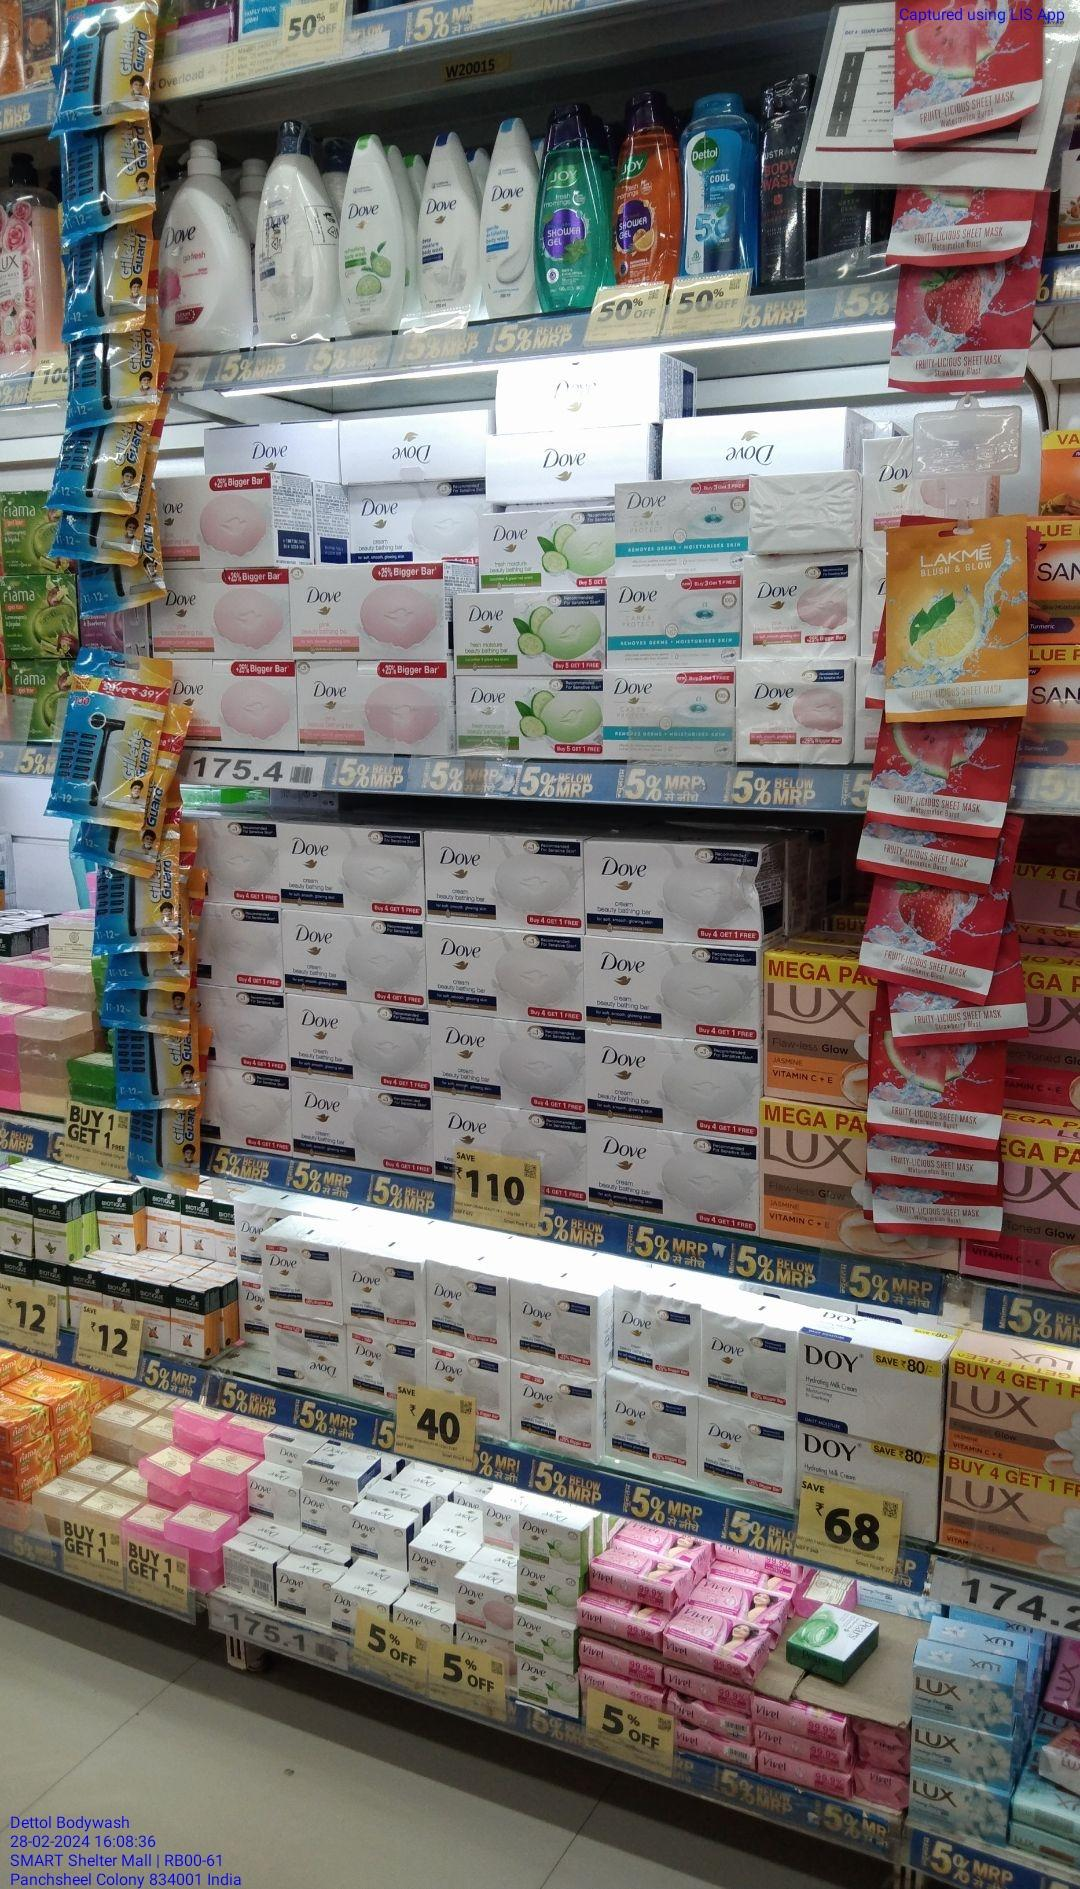Dettol_Bodywash_Cool: (681, 91, 755, 285)
Dove_Deep_Moisture_Body_Wash_250ML: (414, 134, 476, 323)
Dove_Gentle_Exfoliating_Body_Wash_250ML: (480, 117, 532, 319)
Dove_Refreshing_Body_Wash_250ML: (340, 132, 404, 337)
Joy_Shower_Gel_Mandarin_and_Lemongrass_250ML: (611, 87, 676, 285)
Joy_Shower_Gel_Mint_and_Eucalyptus_250ML: (536, 96, 613, 314)
